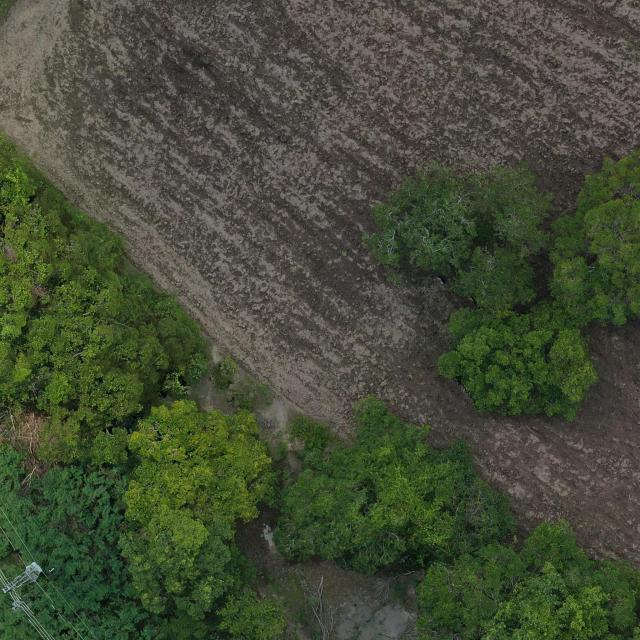Tree: (271, 389, 525, 579), (121, 398, 273, 616), (414, 517, 640, 640), (8, 286, 180, 435), (436, 297, 599, 423), (539, 148, 640, 330), (362, 162, 481, 274), (467, 161, 555, 256), (448, 246, 537, 316)
